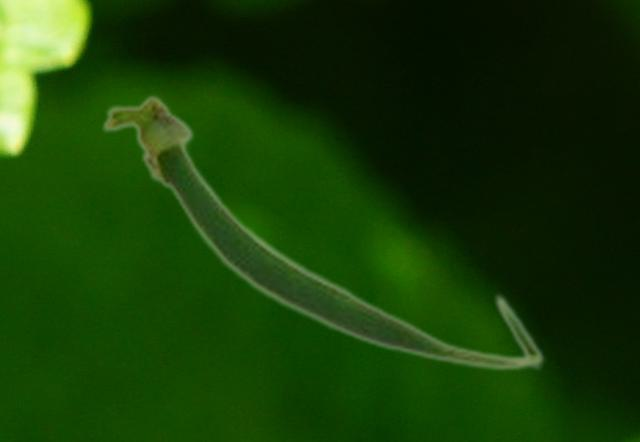french_bean: (99, 91, 545, 372)
